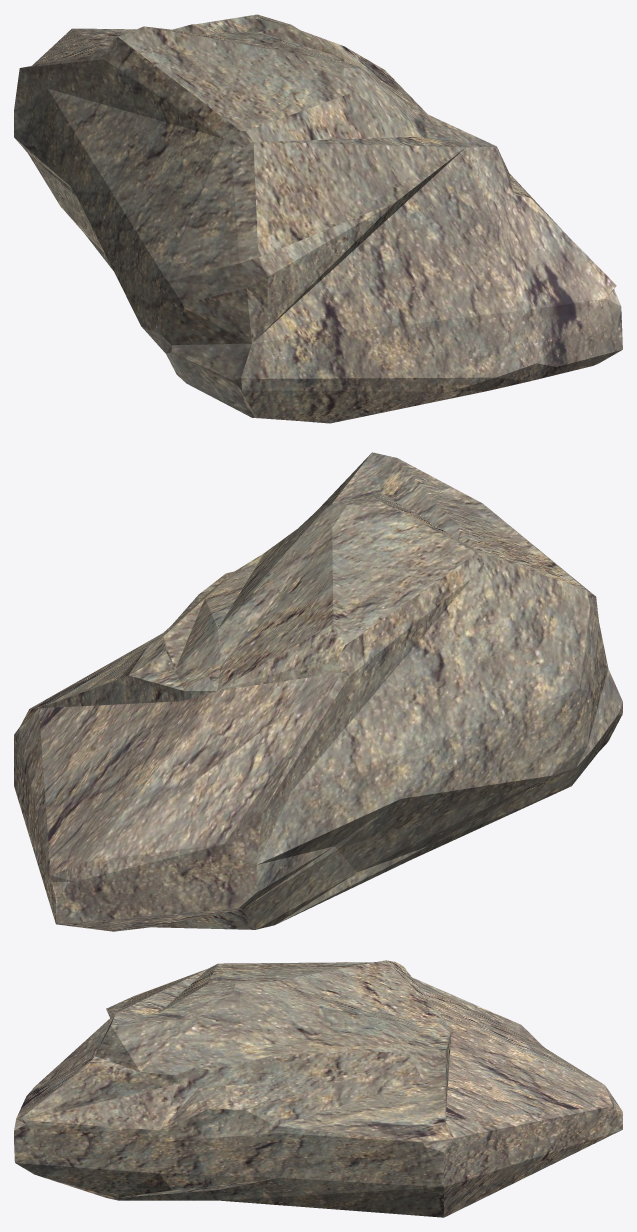
Rendered from Rock02.obj.
The picture shows the model from 3 angles, top to bottom: view 1: azimuth 30°, elevation 25°; view 2: azimuth 150°, elevation 25°; view 3: azimuth 270°, elevation 25°; orthographic projection. The views are drawn at different scales.
Visible parts, largest first — view 1: Cube; view 2: Cube; view 3: Cube.
Part boxes in pixels (box(x1,y1,x2,y2)): Cube: box(14, 14, 622, 423); Cube: box(14, 452, 622, 931); Cube: box(14, 960, 622, 1217).
Size of the model in its own units: 3.46 by 2.4 by 6.85.
Materials: 1 (1 with a texture image).
